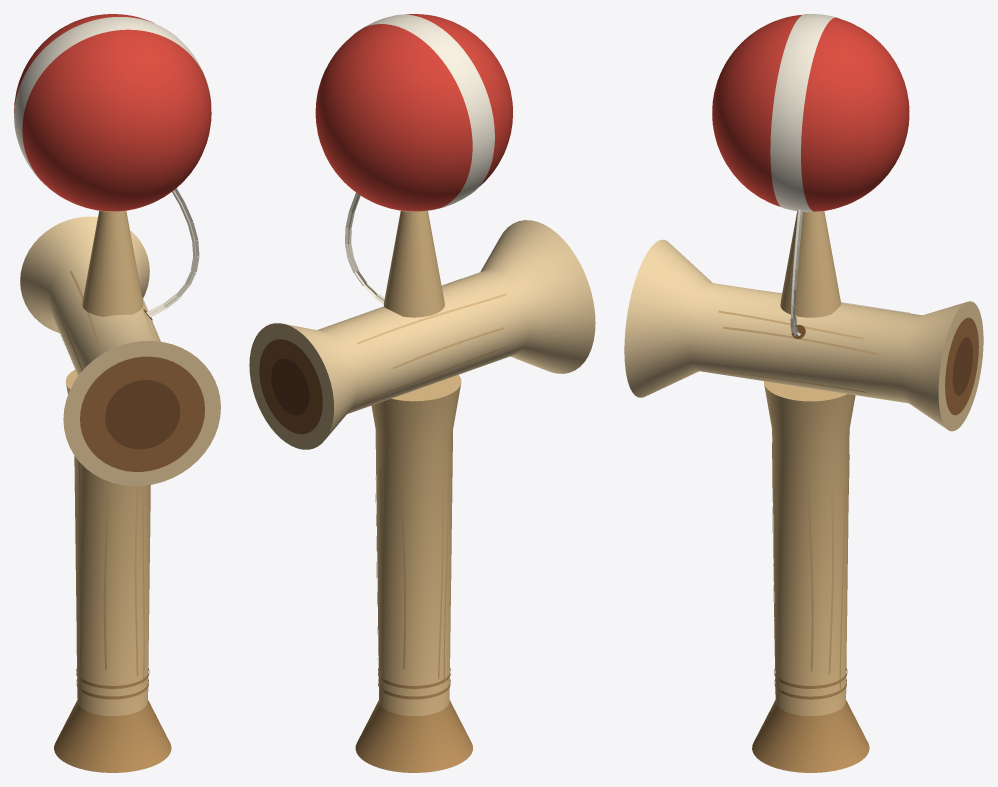
File: kendama.glb
3 views of the same model, side by side, from view 1: azimuth 30°, elevation 25°; view 2: azimuth 150°, elevation 25°; view 3: azimuth 270°, elevation 25° (orthographic).
Visible parts, largest first — view 1: body, ball, string; view 2: body, ball, string; view 3: body, ball, string.
Part boxes in pixels (x1,y1,x2,y2): body: (20,211,220,772); ball: (14,14,211,211); string: (146,188,199,317); body: (249,211,595,772); ball: (315,14,512,211); string: (345,192,384,304); body: (624,211,983,772); ball: (712,14,909,212); string: (790,209,803,336).
Size of the model in its own units: 1.38 by 4.43 by 1.99.
